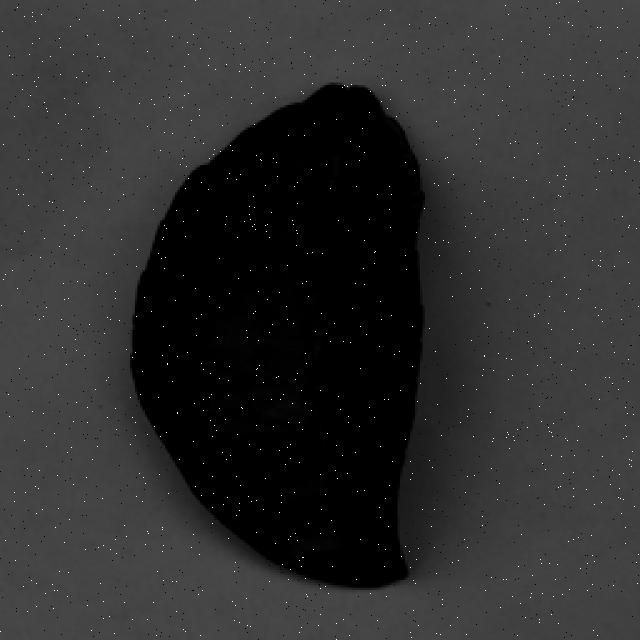greening: (119, 73, 452, 598)
